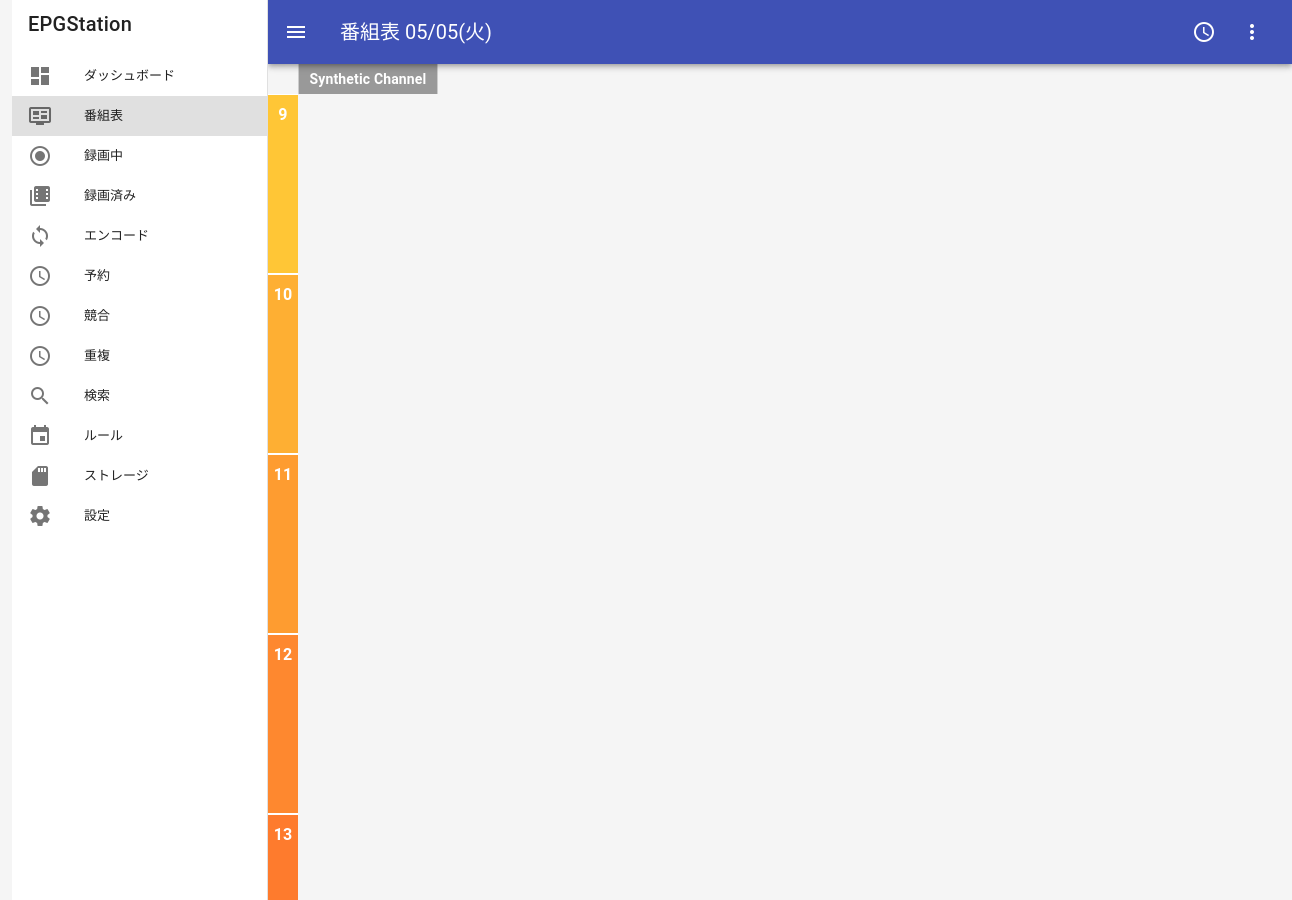
Test: Guide route and fetch lifecycle › [AC 3.15] shows the failure snackbar when the reserve information update request fails
Check: the element with test id "guide-page" is shown, box [268,64,438,899]
Click the button named "番組表メニュー" at x=1252, y=32, box [1228,8,1276,56]
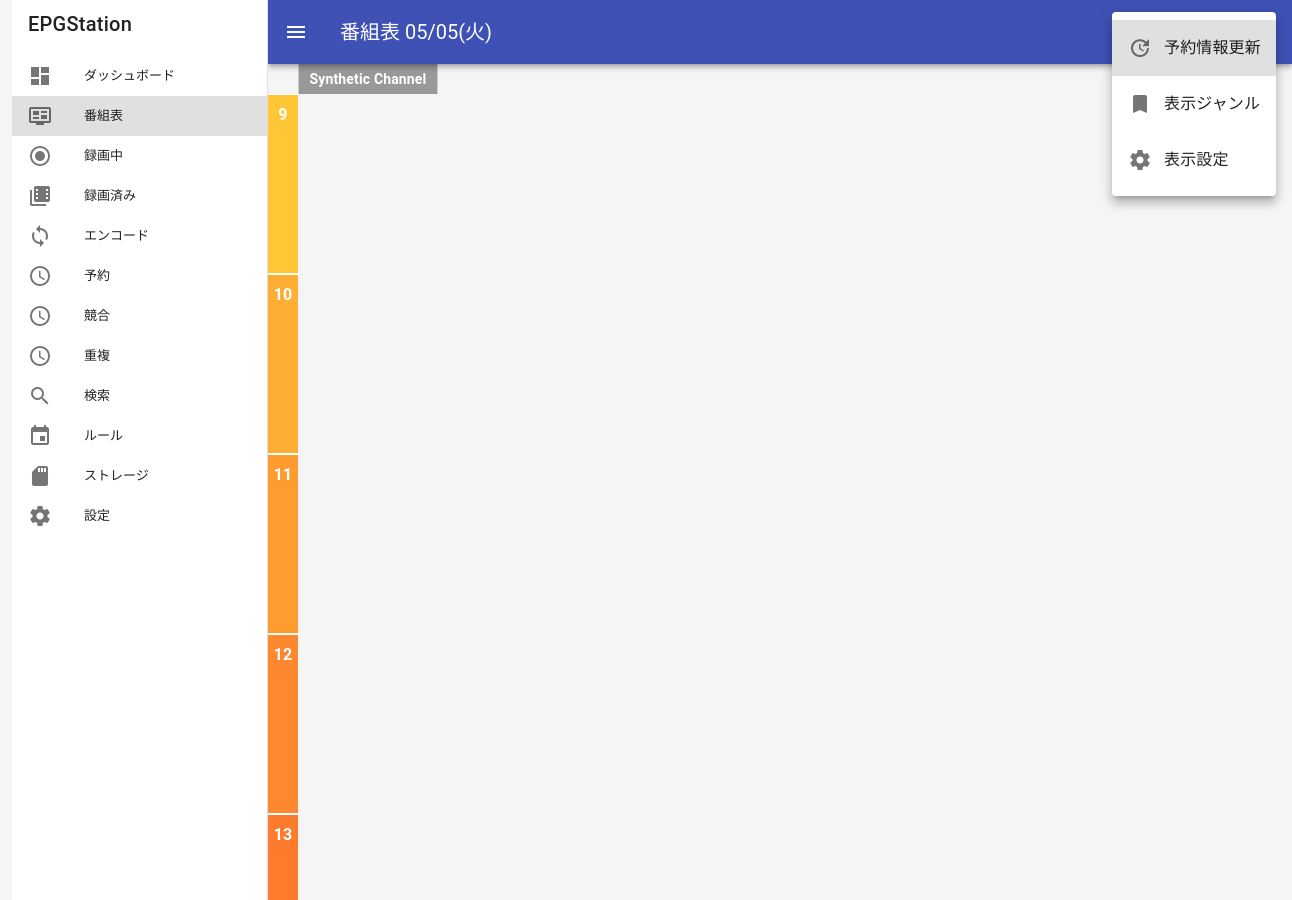
Click the menu item "予約情報更新" at x=1194, y=48, box [1112,20,1276,76]
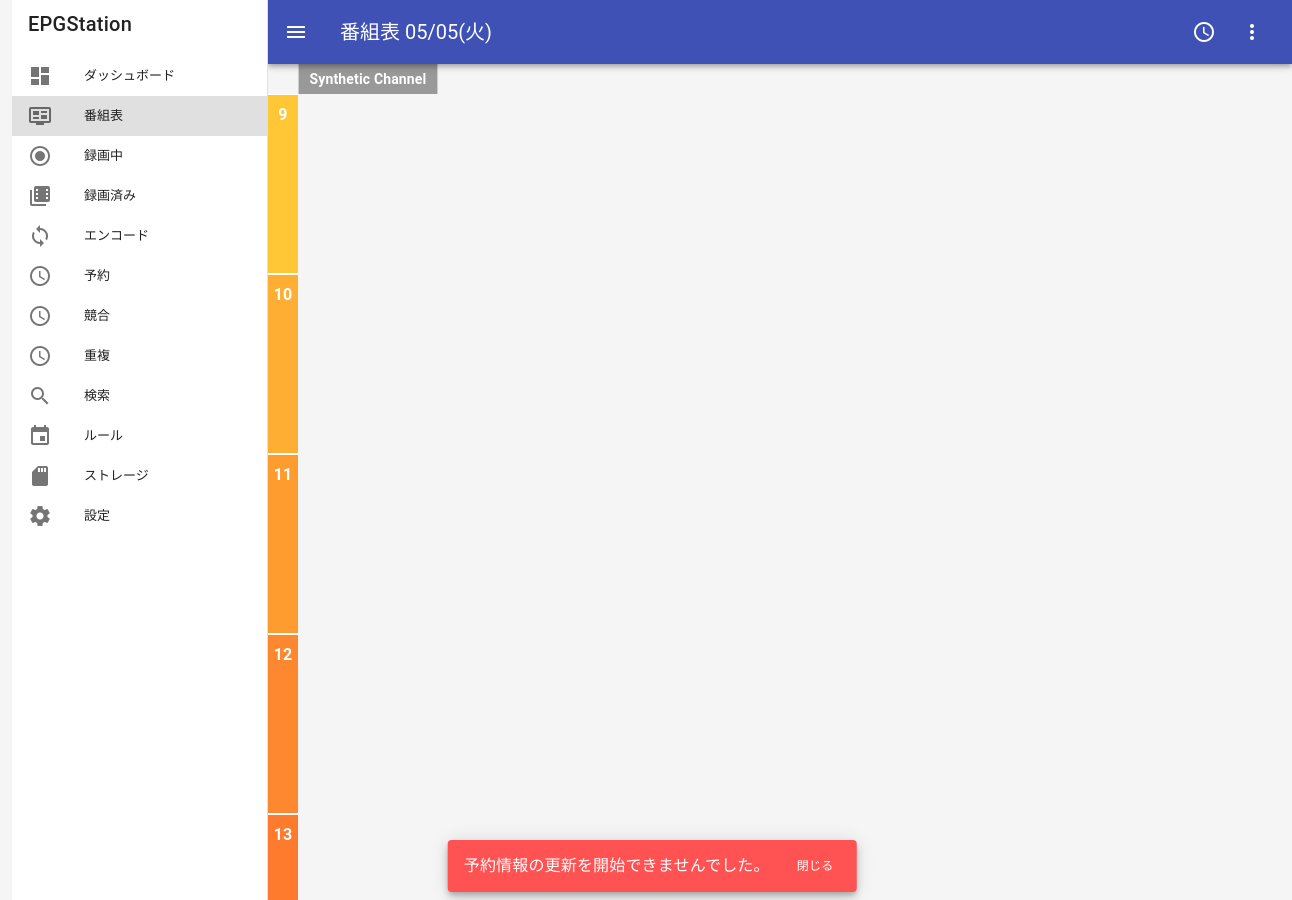
Check: the text "予約情報の更新を開始できませんでした。" is shown, box [464,856,770,875]
